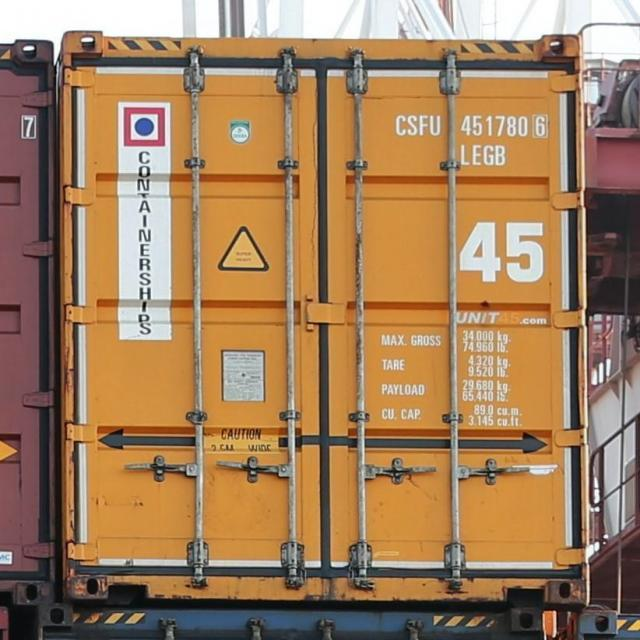ISO: (454, 138, 512, 172)
container_number: (398, 116, 550, 140)
